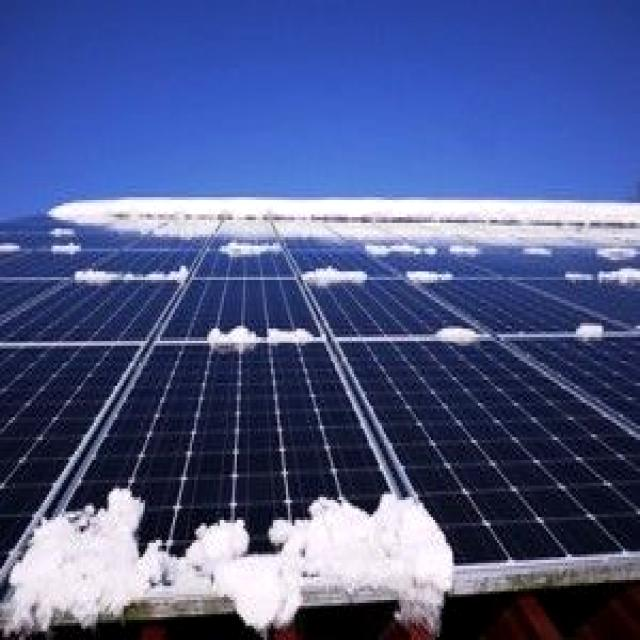panel: (196, 450, 466, 637), (0, 462, 182, 640), (340, 182, 520, 240), (200, 311, 319, 373), (189, 178, 328, 228), (535, 177, 640, 235), (46, 184, 182, 226), (557, 226, 640, 286), (60, 257, 194, 293), (300, 252, 392, 296), (214, 230, 294, 270), (409, 247, 464, 302), (427, 316, 489, 360), (572, 316, 630, 360), (46, 218, 92, 258), (0, 228, 23, 270)
